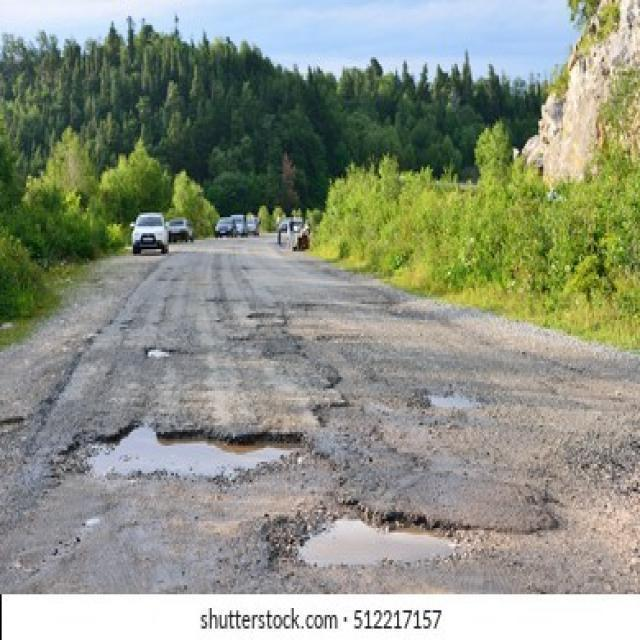pothole: (64, 423, 307, 483), (281, 496, 465, 572), (145, 345, 173, 361)
